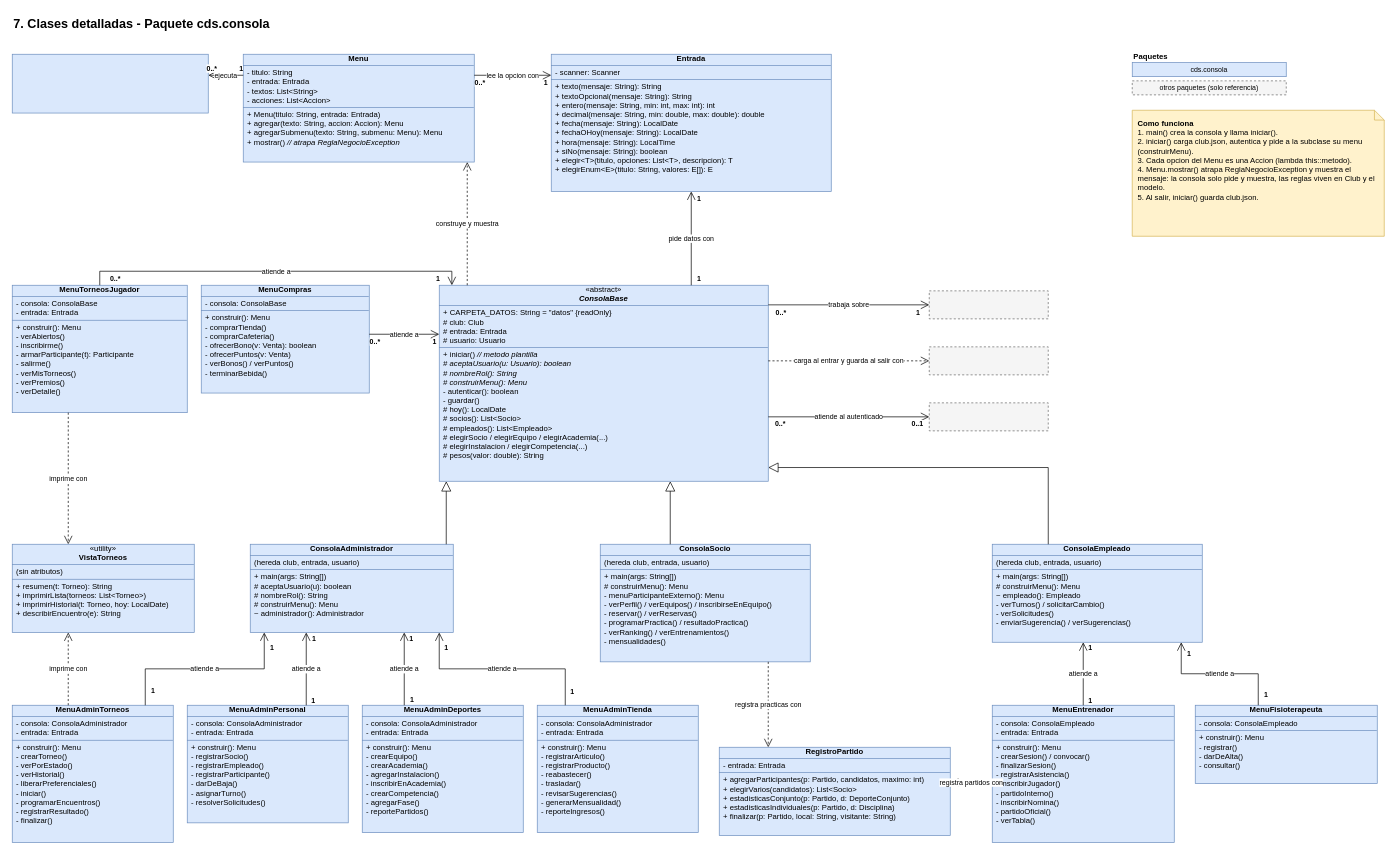
This 1397x855 diagram has some shape labels left out. The box of each missing label's shape, as (x1, y1, x2, y2) in pixels:
ArchivoClub (cds.persistencia): (929, 346, 1048, 375)
Club (cds) — logica del negocio: (929, 290, 1048, 319)
Usuario (cds.usuarios): (929, 402, 1048, 431)
«interface» Accion (sin atributos) + ejecutar() throws ReglaNegocioException: (12, 54, 208, 113)
